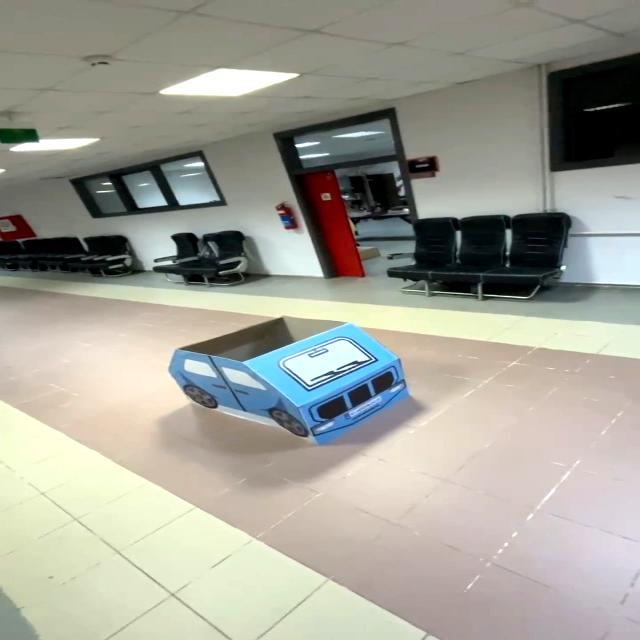blue_car: (151, 310, 435, 448)
